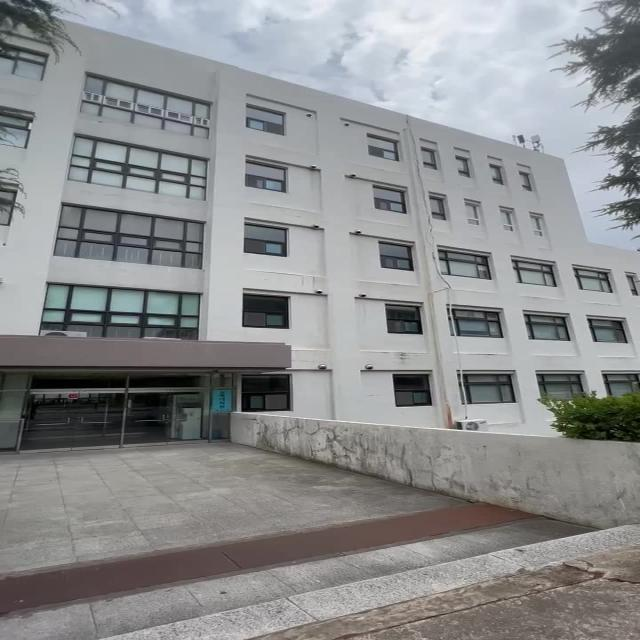building: (26, 73, 556, 424)
